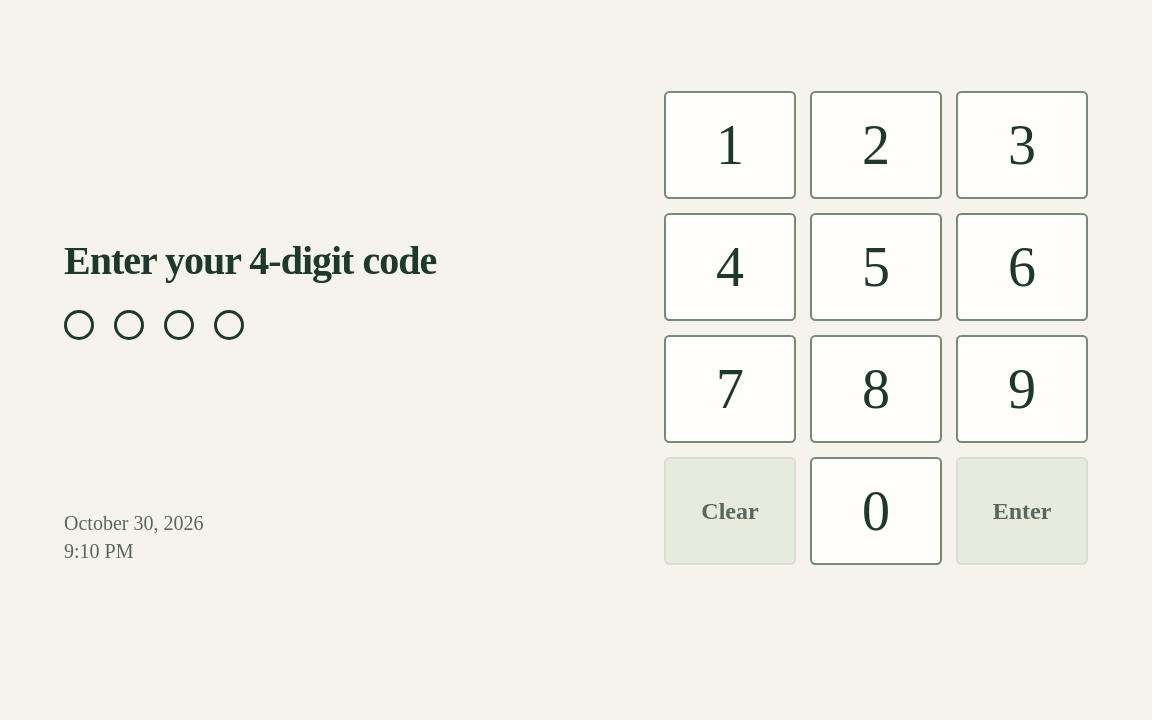
Test: several classes are open: the student is asked BEFORE anything is written › shows every open class with its name, scheduled range and real class type, and has sent only the one request that asked
Click the button "1" at (730, 145), box left=664, top=91, right=796, bottom=199
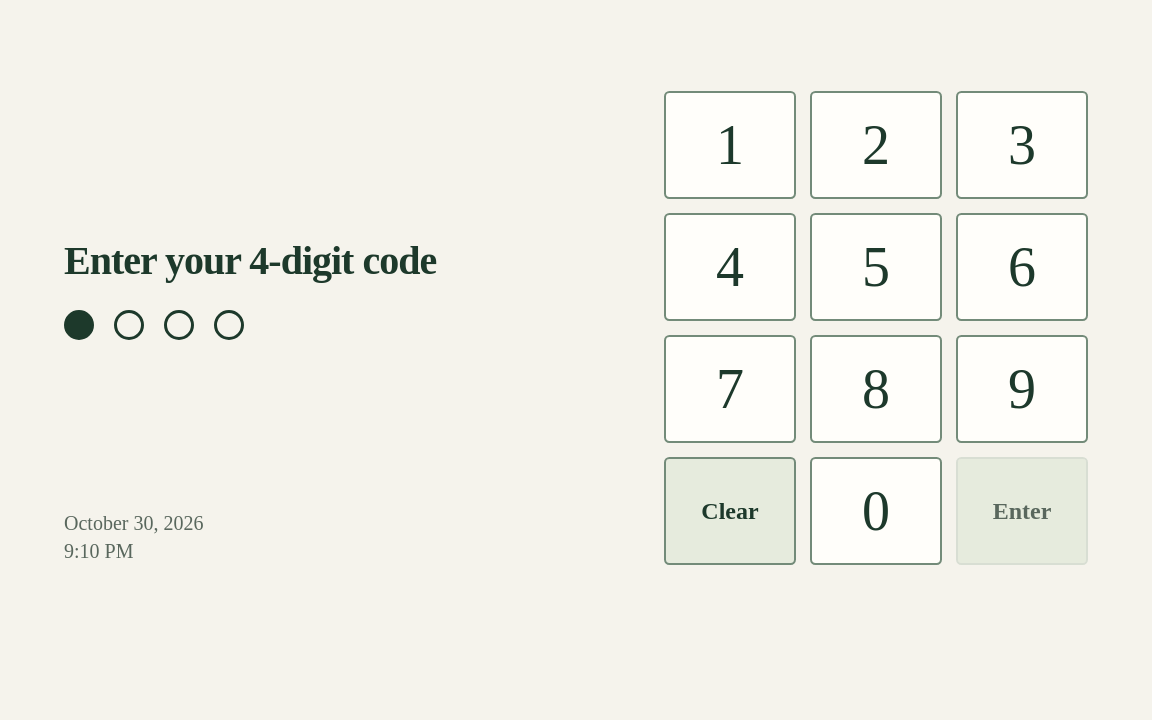
Click the button "2" at (876, 145), box left=810, top=91, right=942, bottom=199
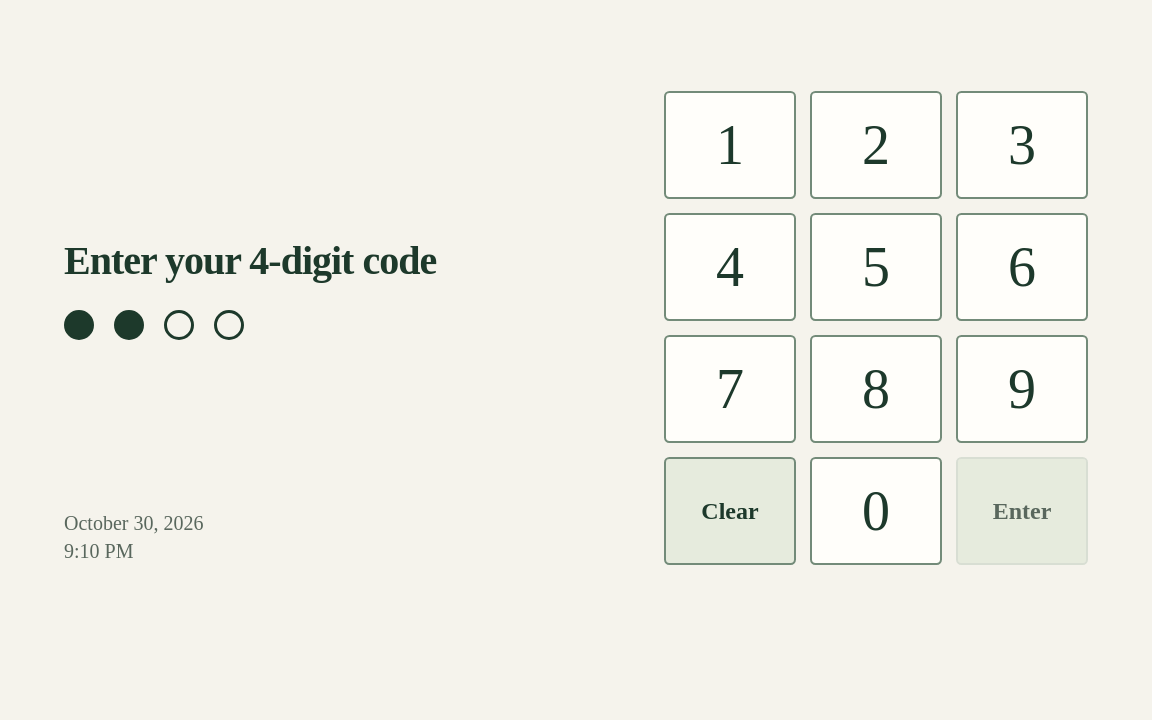
Click the button "3" at (1022, 145), box left=956, top=91, right=1088, bottom=199
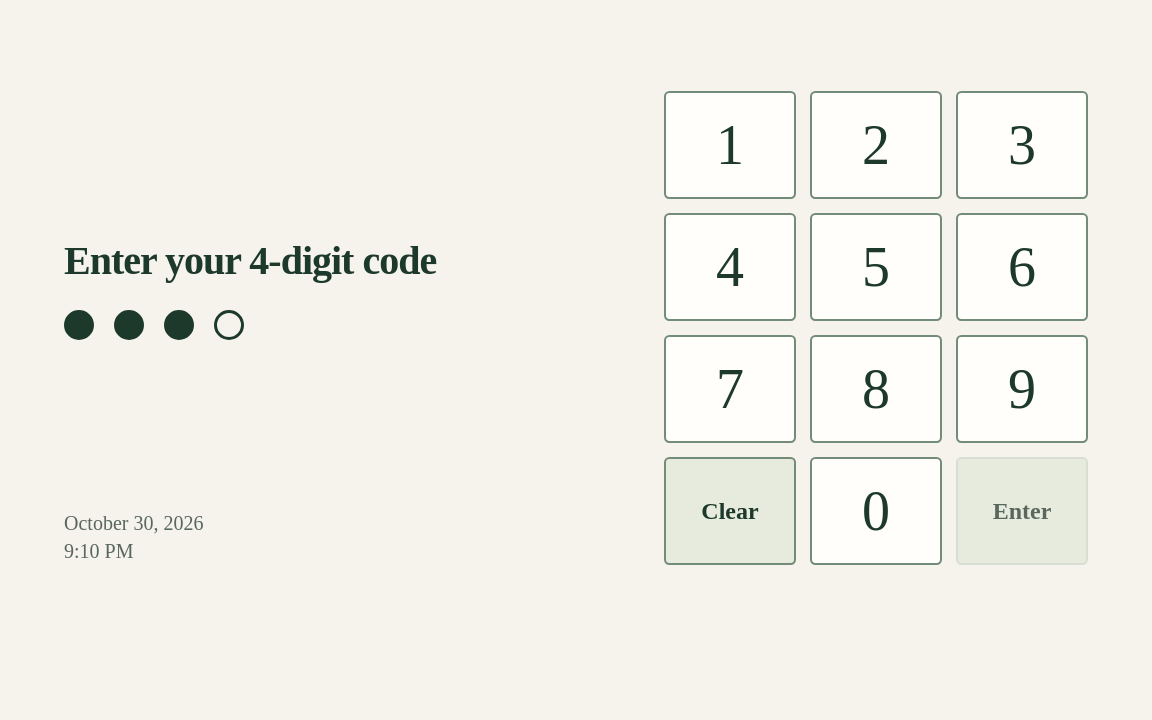
Click the button "4" at (730, 267), box left=664, top=213, right=796, bottom=321
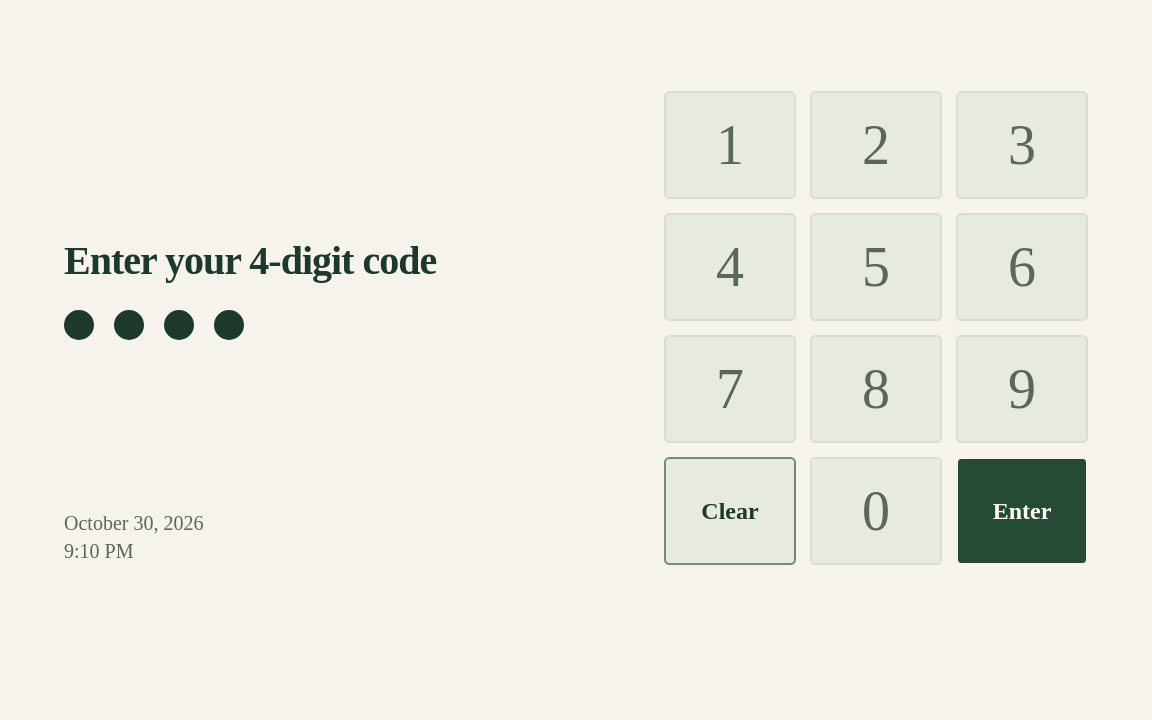
Click the button "Enter" at (1022, 511), box left=956, top=457, right=1088, bottom=565
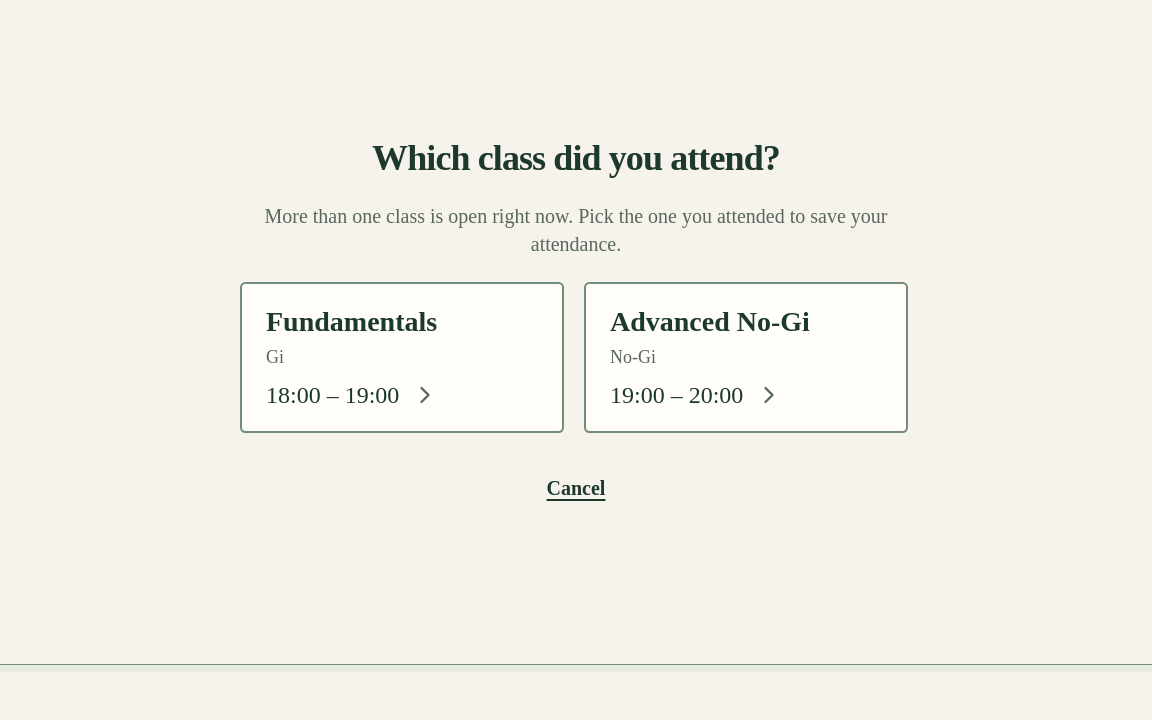
Now the heading "Which class did you attend?" is shown, box left=372, top=138, right=780, bottom=178
Now the text "More than one class is open right now. Pick the one you attended to save your attendance." is shown, box left=264, top=204, right=888, bottom=254
Now the text "Gi" is shown, box left=266, top=346, right=284, bottom=366
